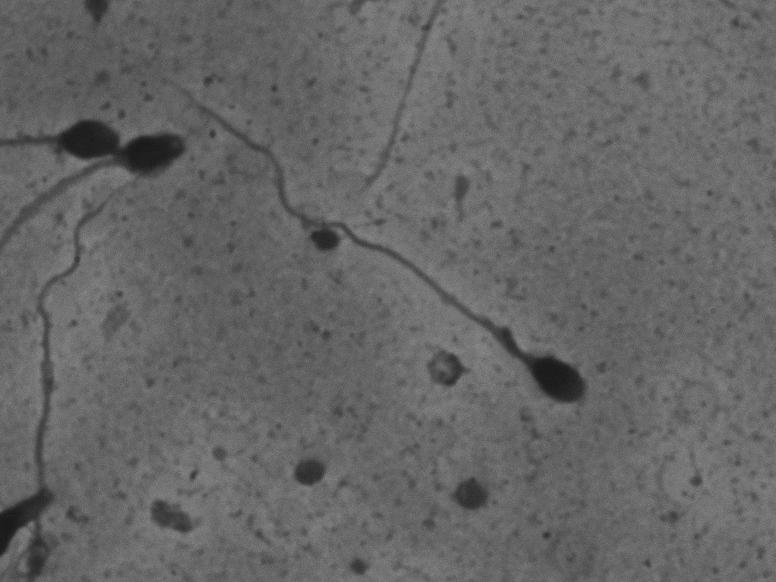Normal: (146, 69, 597, 417)
